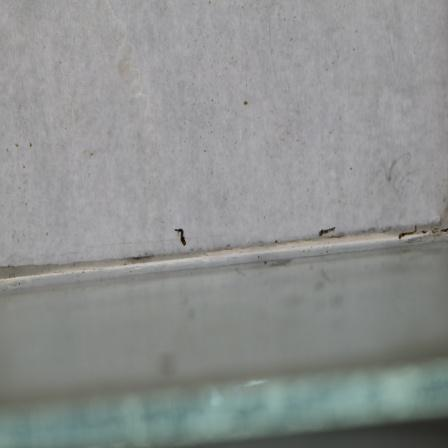Jentik-Nyamuk: (395, 223, 421, 241), (315, 222, 338, 241), (171, 223, 188, 248)
